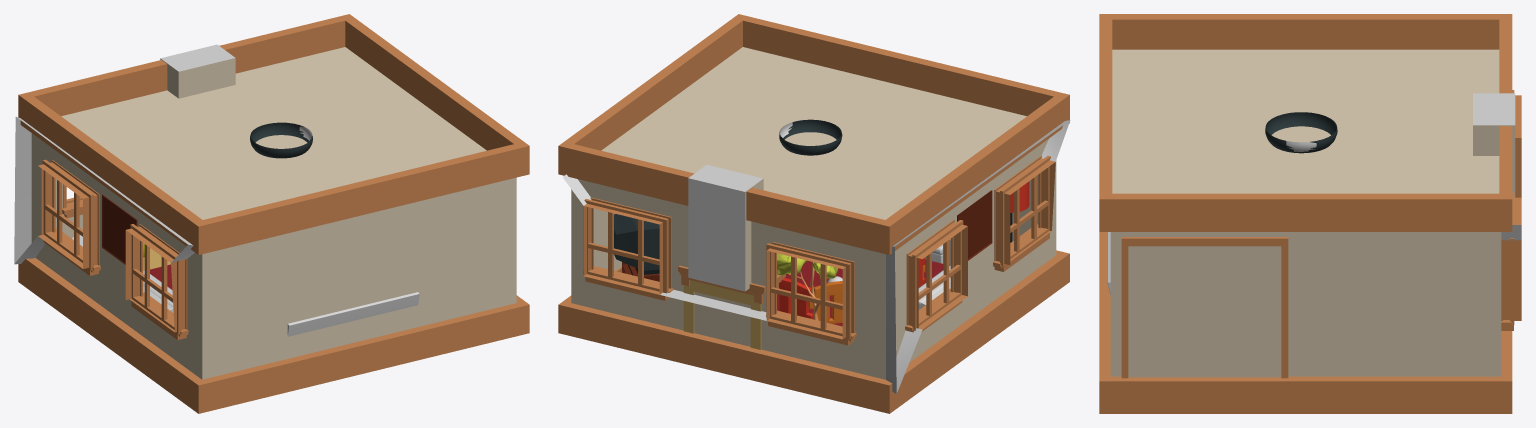
File: Level1_LivingRoom.fbx
3 views of the same model, side by side, from view 1: azimuth 30°, elevation 25°; view 2: azimuth 150°, elevation 25°; view 3: azimuth 270°, elevation 25° (orthographic). The views are drawn at different scales.
Visible parts, largest first — view 1: Ceiling, Walls, Floor, Fireplace, Couch2, Painting_R, Light; view 2: Ceiling, Walls, Floor, Fireplace, TV_Old, PlayPen, Painting_R, Light, PotPlant; view 3: Ceiling, Walls, Door, Floor, Fireplace, Light.
Boxes of the visible parts, <box> form: Ceiling: <box>18,14,529,254</box>; Walls: <box>14,116,516,379</box>; Floor: <box>18,248,529,413</box>; Fireplace: <box>160,44,235,98</box>; Couch2: <box>287,292,419,336</box>; Painting_R: <box>102,194,137,264</box>; Light: <box>250,122,312,158</box>; Ceiling: <box>558,14,1069,254</box>; Walls: <box>563,120,1070,393</box>; Floor: <box>558,250,1069,413</box>; Fireplace: <box>678,165,785,349</box>; TV_Old: <box>614,214,659,274</box>; PlayPen: <box>779,257,925,323</box>; Painting_R: <box>957,190,992,260</box>; Light: <box>779,119,842,155</box>; PotPlant: <box>777,253,838,320</box>; Ceiling: <box>1099,14,1512,231</box>; Walls: <box>1110,90,1521,376</box>; Door: <box>1121,237,1288,378</box>; Floor: <box>1099,232,1512,413</box>; Fireplace: <box>1473,93,1515,197</box>; Light: <box>1265,112,1337,153</box>.
Bounding box in the file's own units: 530 × 282 × 500.
